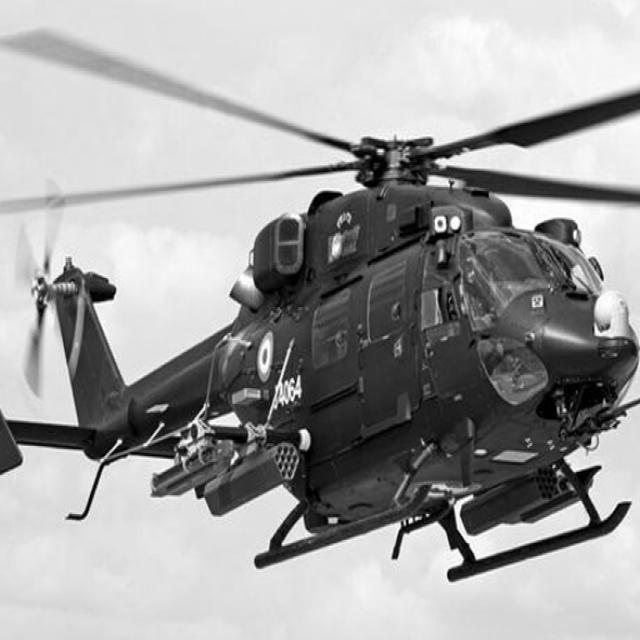helicopter: (1, 29, 640, 582)
